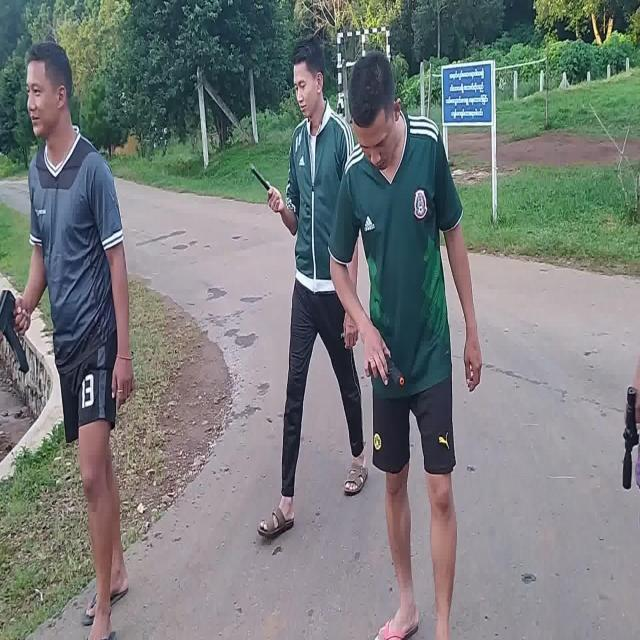gun: (2, 289, 29, 373), (368, 356, 404, 385)
